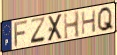F: (13, 19, 30, 49)
H: (63, 10, 81, 41), (81, 8, 97, 36)
Q: (96, 6, 115, 33)
X: (47, 13, 63, 43)
Z: (30, 16, 47, 46)
